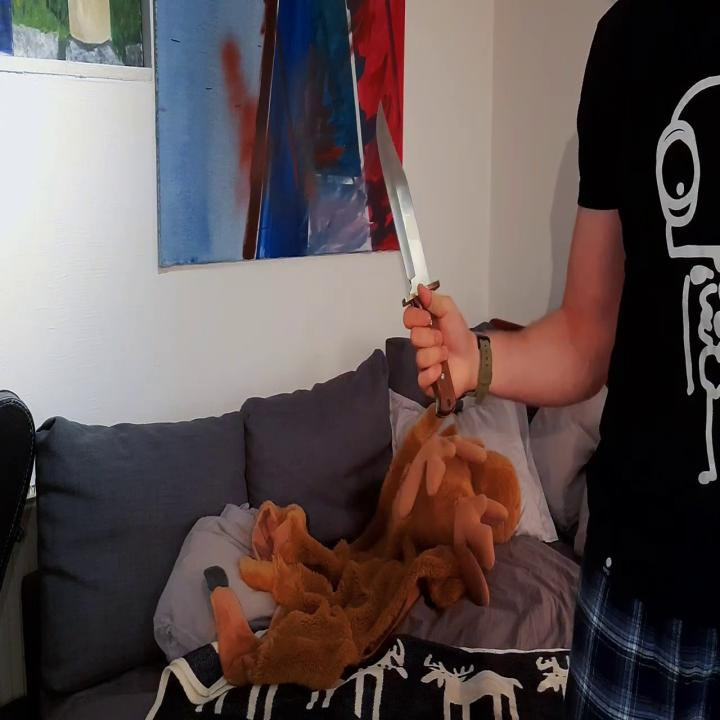knife: (373, 93, 460, 422)
